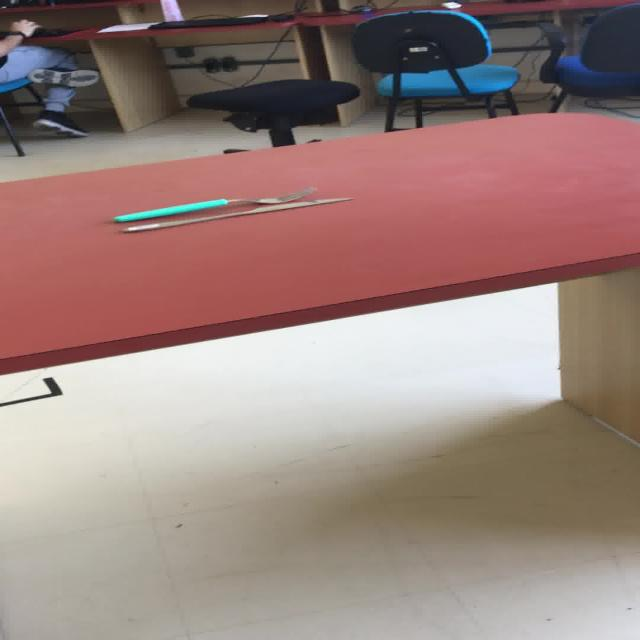fork: (110, 186, 316, 222)
knife fork: (118, 196, 354, 233)
